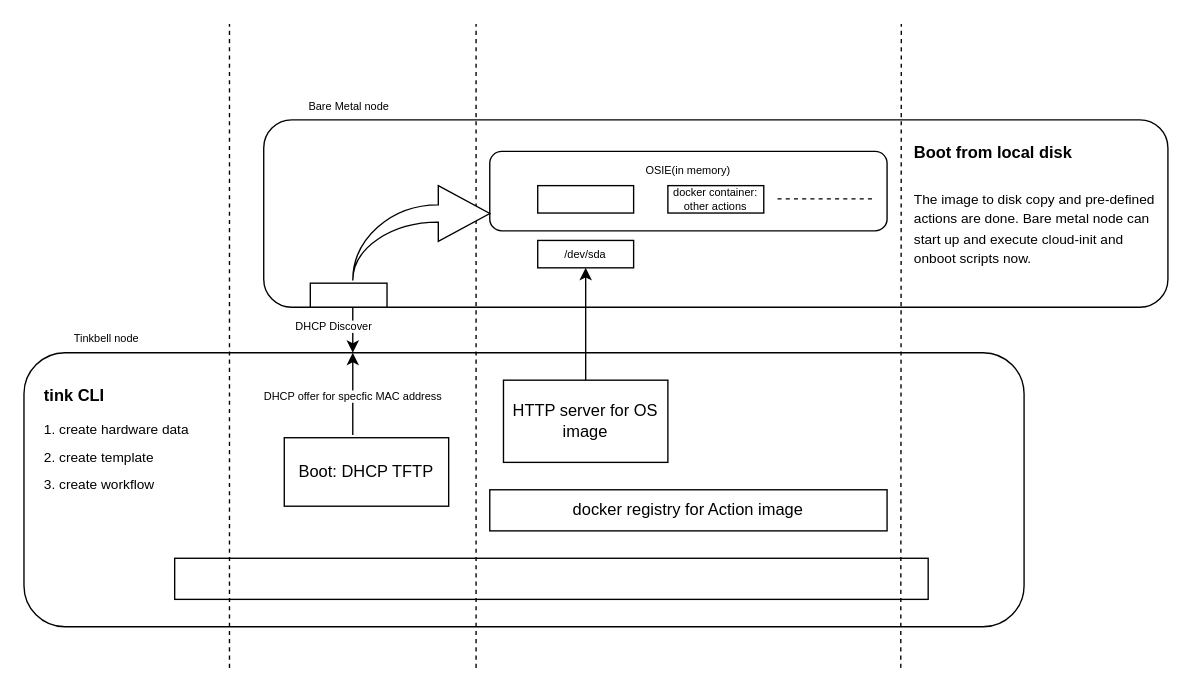
The diagram is 1192 pixels wide and 693 high, and some of its shapes have lost their labels. The centre of each missing label's shape, as x and y in pixels:
docker container: image2disk: point (585, 198)
PXE interface: point (348, 294)
tink server + PostgreSQL: point (550, 578)
